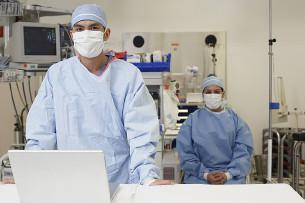OK: (72, 21, 106, 55), (205, 86, 224, 108)
